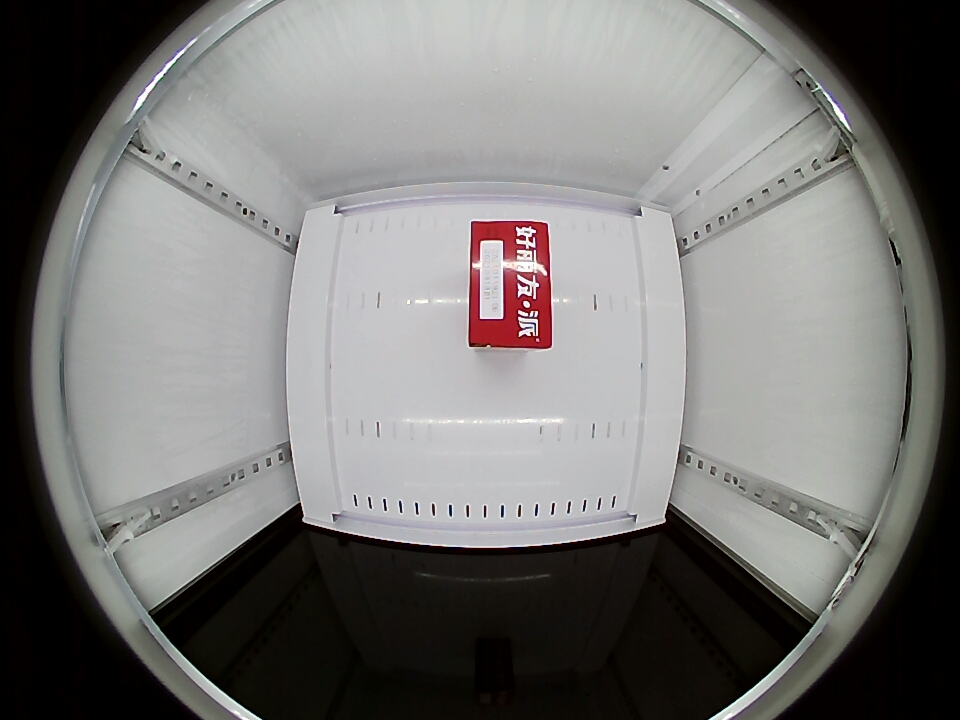haoliyou: (469, 220, 553, 350)
